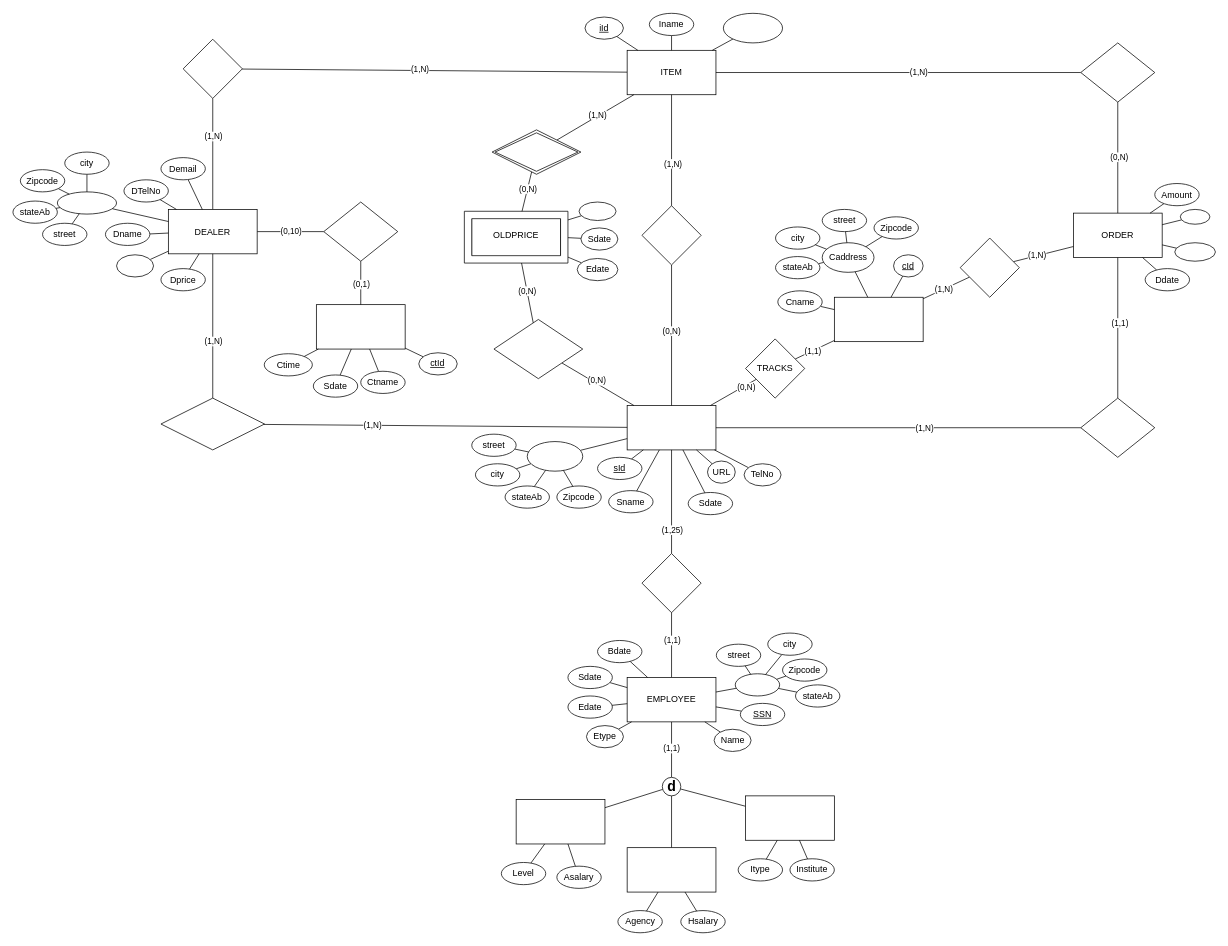
Some shapes in this 1228 by 946 pixel diagram are drawn without their labels. The centre of each missing label's shape, as x and y in pixels:
"Address" goes at pixel 757 684.
"CONTAINS" goes at pixel 1117 72.
"CONTRACT" goes at pixel 360 326.
"CUSTOMER" goes at pixel 878 319.
"Daddress" goes at pixel 87 202.
"dId" goes at pixel 135 265.
"EMPLOYS" goes at pixel 671 583.
"FULLTIME" goes at pixel 560 821.
"HAS_OLD" goes at pixel 536 151.
"Idescription" goes at pixel 753 28.
"INTERN" goes at pixel 789 817.
"LOGS" goes at pixel 538 349.
"MAINTAINS" goes at pixel 360 231.
"Odate" goes at pixel 1194 251.
"oId" goes at pixel 1195 216.
"PLACES" goes at pixel 989 267.
"RECORDS" goes at pixel 1117 427.
"Saddress" goes at pixel 555 456.
"SELLS" goes at pixel 671 235.
"SHOP" goes at pixel 671 427.
"Sprice" goes at pixel 597 211.
"SUPPLIER_FOR" goes at pixel 212 423.
"SUPPLIES" goes at pixel 212 68.
"TEMPORARY" goes at pixel 671 869.
